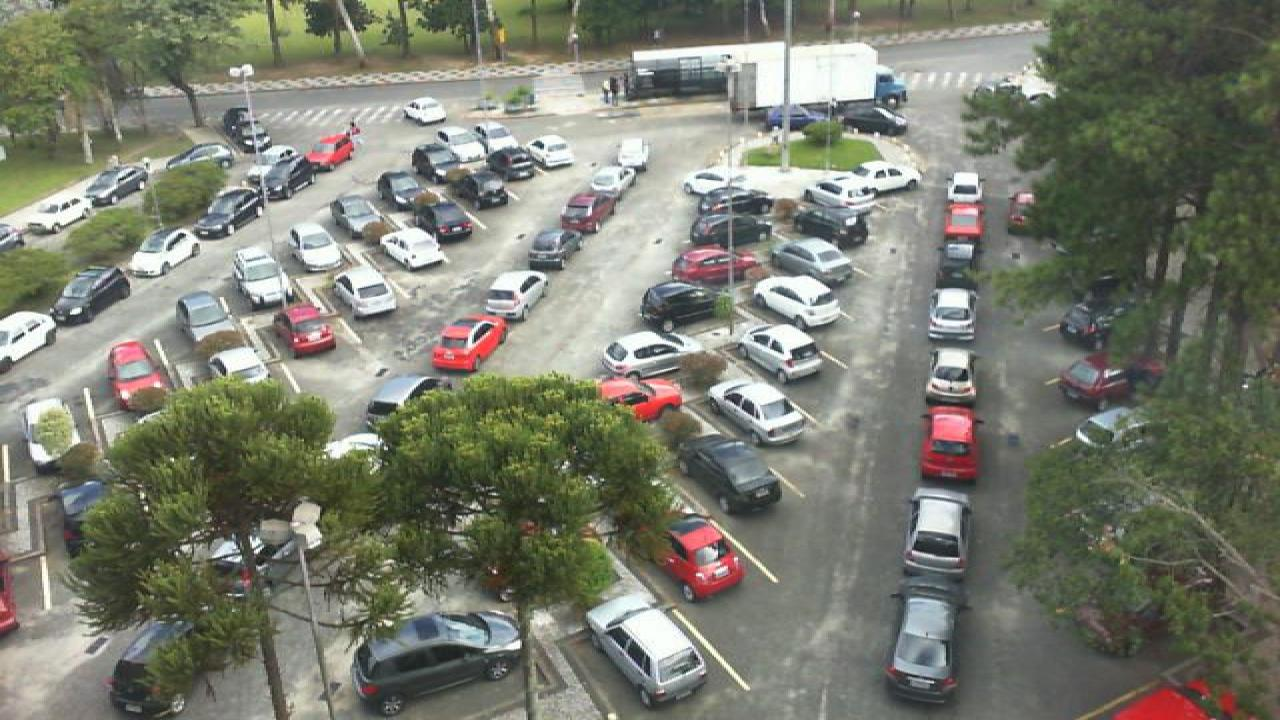Car: (348, 606, 526, 719), (580, 590, 710, 708), (106, 620, 224, 719), (882, 595, 966, 704), (676, 433, 784, 512), (662, 511, 746, 604), (704, 379, 808, 448), (902, 489, 974, 585), (362, 370, 460, 439), (738, 322, 828, 382), (750, 274, 846, 329), (50, 263, 132, 325), (600, 327, 696, 379), (920, 405, 982, 484), (430, 314, 508, 373), (108, 339, 172, 409), (768, 237, 856, 287), (598, 374, 686, 422), (22, 397, 82, 466), (1070, 403, 1154, 451), (172, 288, 238, 348), (126, 226, 202, 278), (244, 144, 314, 200), (1058, 350, 1126, 407), (640, 279, 724, 325), (194, 187, 262, 242), (482, 269, 550, 324), (228, 245, 288, 305), (332, 264, 398, 318), (1056, 299, 1124, 351), (0, 310, 58, 370), (276, 300, 336, 358), (924, 348, 980, 410), (288, 221, 348, 276), (672, 246, 758, 284), (144, 143, 234, 179), (378, 223, 446, 270), (330, 189, 390, 241), (692, 210, 772, 248), (840, 162, 924, 198), (924, 286, 978, 341), (800, 176, 878, 214), (798, 206, 872, 246), (20, 190, 90, 232), (420, 190, 476, 241), (206, 344, 268, 388), (528, 228, 586, 272), (558, 190, 616, 234), (374, 170, 430, 215), (410, 138, 464, 184), (220, 106, 276, 150), (834, 104, 908, 136), (304, 130, 362, 170), (694, 186, 766, 216), (434, 124, 488, 163), (680, 167, 750, 196), (458, 170, 508, 208), (934, 241, 978, 284), (482, 145, 530, 183), (762, 104, 830, 130), (942, 201, 984, 243), (528, 134, 574, 168), (588, 164, 632, 197), (402, 96, 448, 125), (614, 137, 652, 172), (944, 171, 984, 204)
